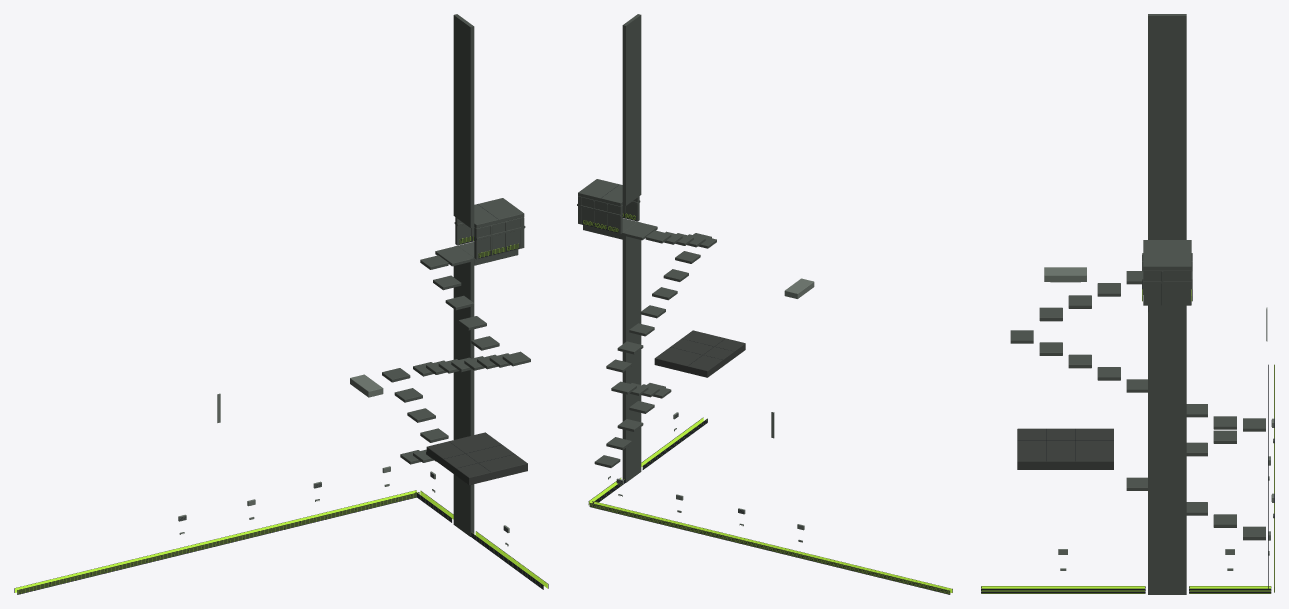
The picture shows the model from 3 angles, left to right: view 1: azimuth 30°, elevation 25°; view 2: azimuth 150°, elevation 25°; view 3: azimuth 270°, elevation 25°; orthographic projection. The views are drawn at different scales.
Visible parts, largest first — view 1: pm1_m6; view 2: pm1_m6; view 3: pm1_m6.
Part boxes in pixels (x1,y1,x2,y2): pm1_m6: (14, 14, 548, 594); pm1_m6: (577, 14, 952, 594); pm1_m6: (981, 14, 1274, 594).
Size of the model in its own units: 61.37 by 66 by 30.37.
